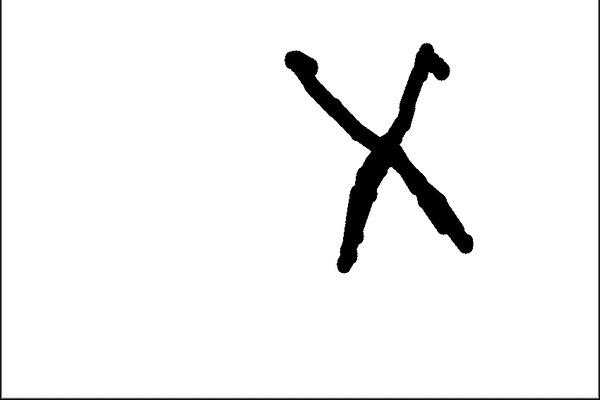X: (260, 25, 485, 280)
